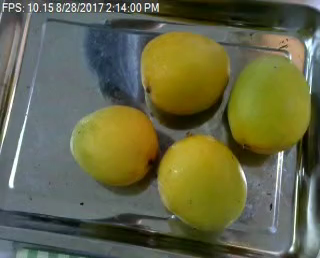Mango: (155, 135, 245, 234), (227, 55, 310, 153), (139, 31, 228, 113), (70, 107, 156, 186)
